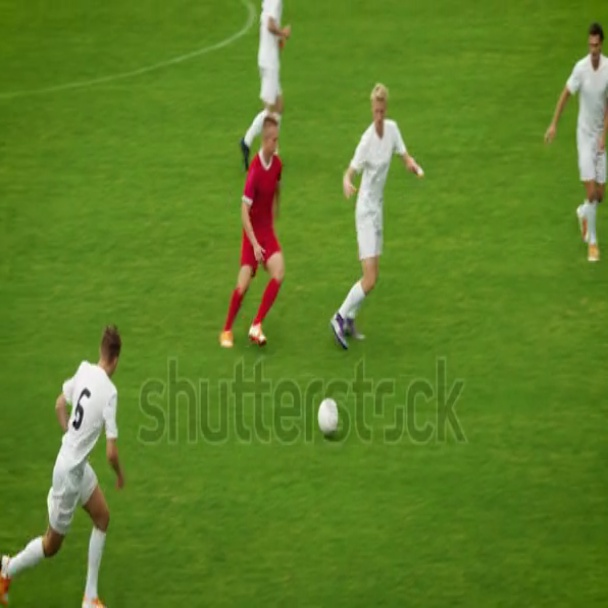ball: (312, 393, 343, 440)
